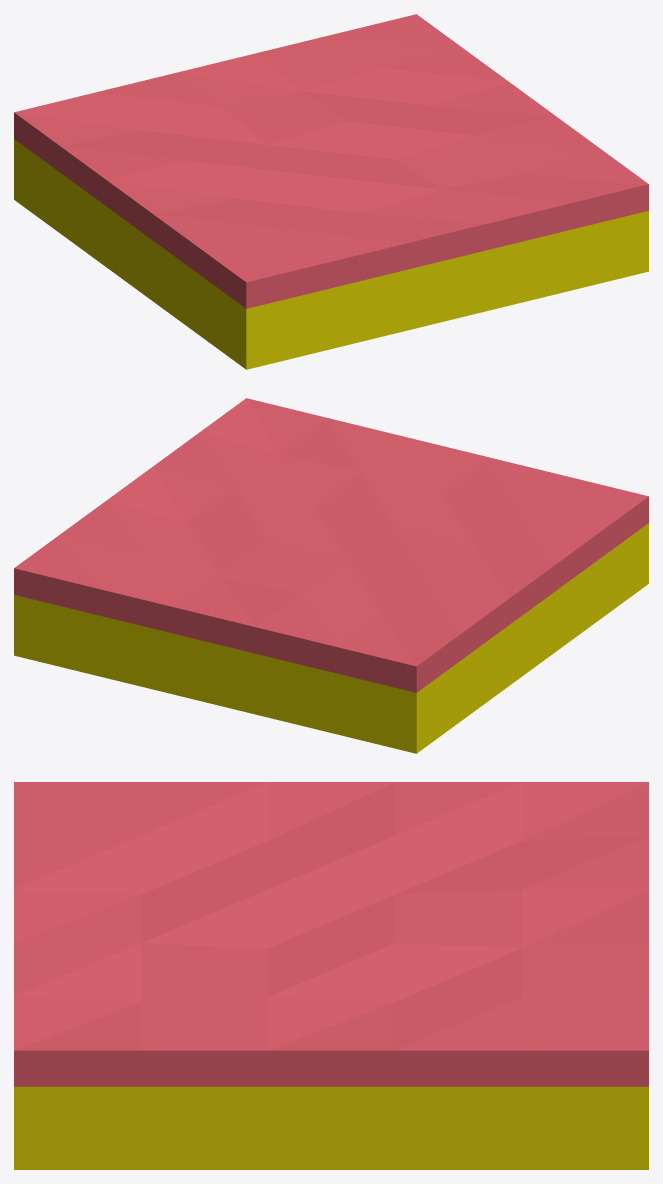
The model's file is ground-waves.fbx.
3 renders of one model, top to bottom at view 1: azimuth 30°, elevation 25°; view 2: azimuth 150°, elevation 25°; view 3: azimuth 270°, elevation 25°, orthographic. The views are drawn at different scales.
Visible parts, largest first — view 1: ground-waves; view 2: ground-waves; view 3: ground-waves.
Boxes of the visible parts, left/top/right/bottom form: ground-waves: left=14, top=14, right=648, bottom=369; ground-waves: left=14, top=398, right=648, bottom=753; ground-waves: left=14, top=782, right=648, bottom=1169.
Size of the model in its own units: 30 by 6.22 by 30.
